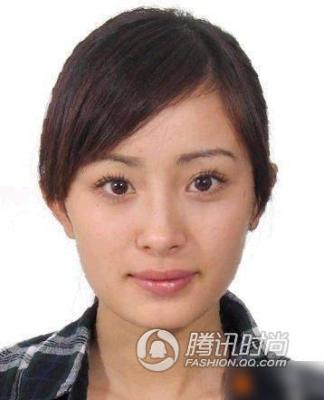unmask: (75, 138, 252, 328)
